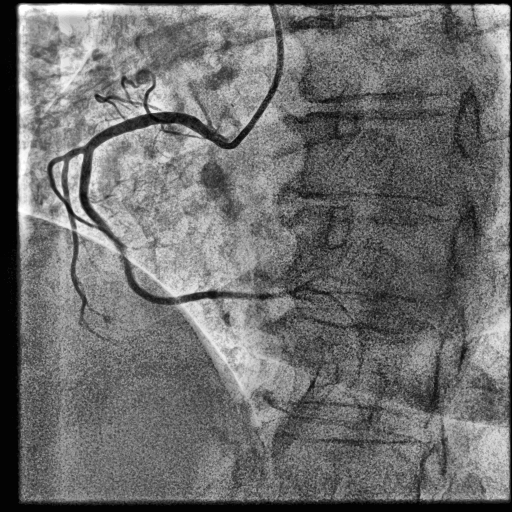rca: (79, 113, 292, 305)
